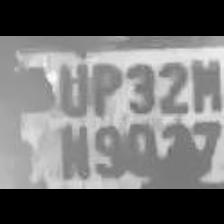2: (154, 56, 190, 112)
3: (119, 58, 155, 114)
7: (184, 114, 218, 172)
9: (89, 118, 123, 178)
M: (188, 54, 220, 113)
P: (87, 57, 123, 116)
U: (52, 58, 88, 118)
